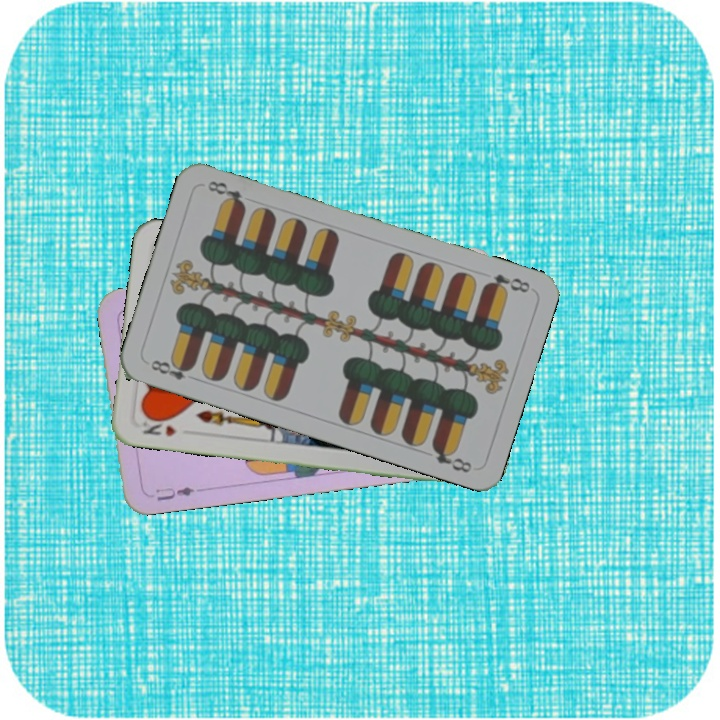E8: (146, 355, 201, 384), (480, 269, 533, 296)
EU: (151, 482, 197, 503)
HK: (139, 412, 179, 439)
